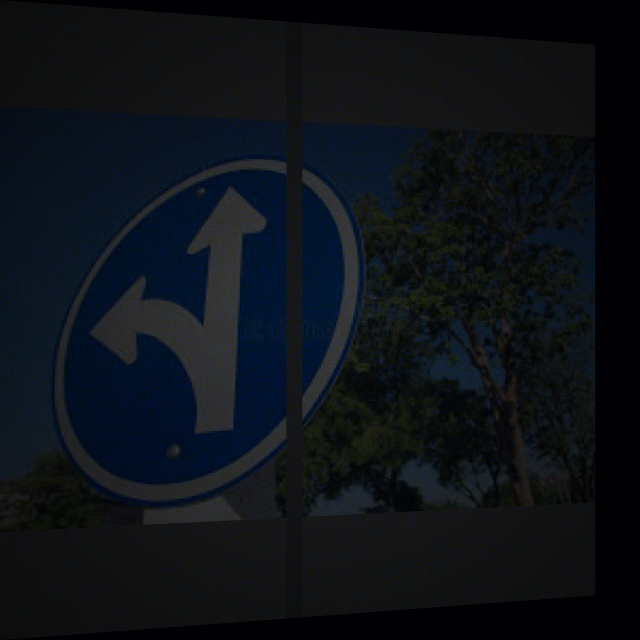Compulsory_Ahead_or_Turn_Left: (54, 146, 357, 495)
